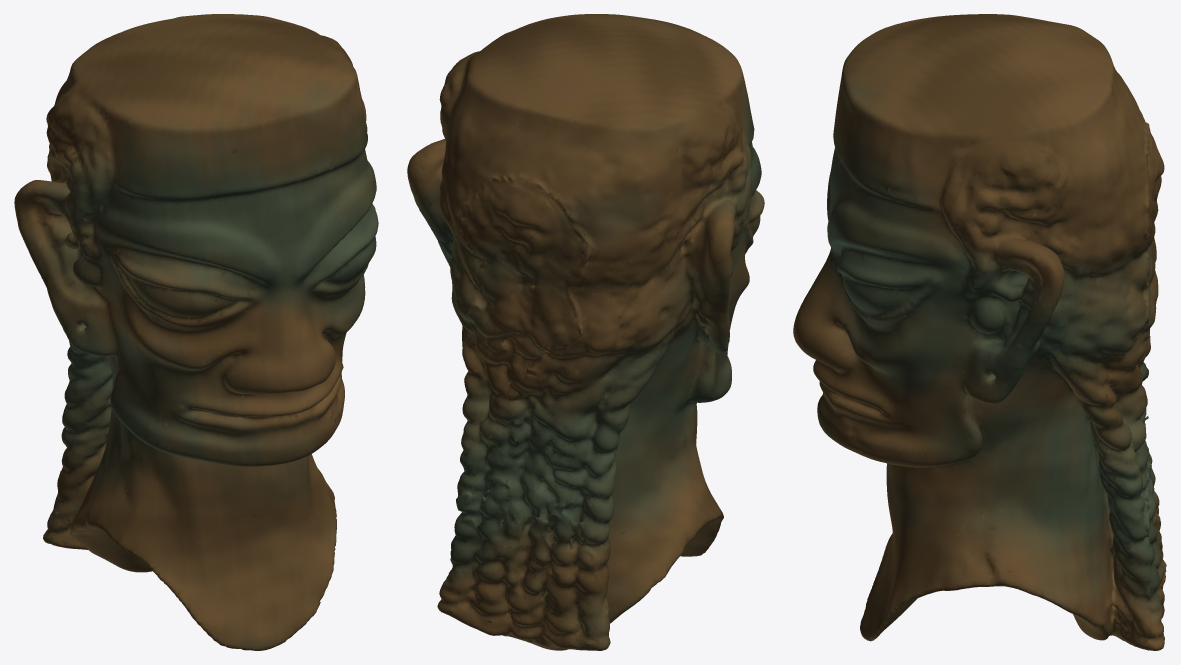
File: rentouxiang.glb
3 views of the same model, side by side, from view 1: azimuth 30°, elevation 25°; view 2: azimuth 150°, elevation 25°; view 3: azimuth 270°, elevation 25° (orthographic). The views are drawn at different scales.
Visible parts, largest first — view 1: model; view 2: model; view 3: model.
Boxes of the visible parts, left/top/right/bottom form: model: left=14, top=14, right=378, bottom=650; model: left=407, top=14, right=764, bottom=650; model: left=793, top=14, right=1166, bottom=650.
Bounding box in the file's own units: 0.6128 × 1 × 0.574.
